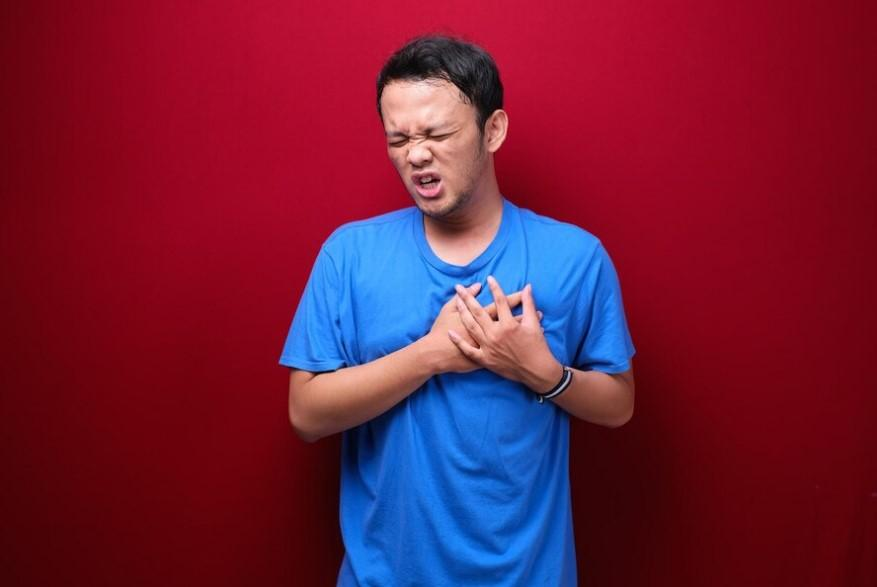pain: (383, 116, 462, 154)
